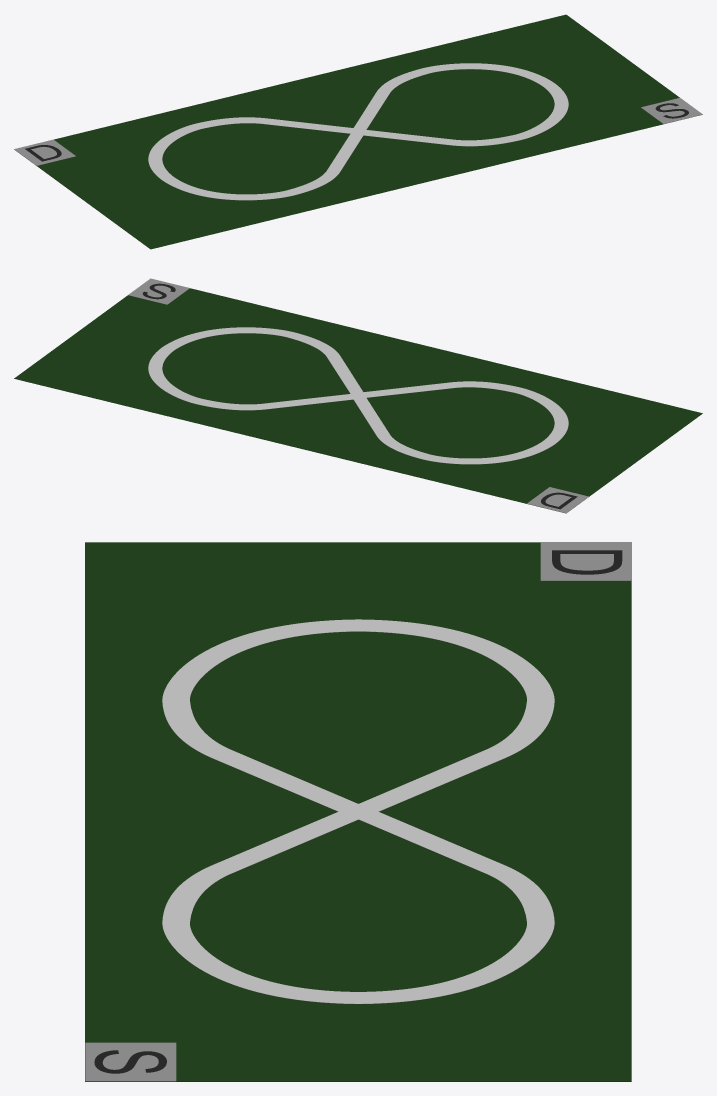
File: arena.DAE
3 renders of one model, top to bottom at view 1: azimuth 30°, elevation 25°; view 2: azimuth 150°, elevation 25°; view 3: azimuth 270°, elevation 25°, orthographic. The views are drawn at different scales.
Parts seen in each view (by area): view 1: Box001; view 2: Box001; view 3: Box001.
Part boxes in pixels (bbox=[...]): Box001: bbox=[14, 14, 702, 249]; Box001: bbox=[14, 278, 702, 513]; Box001: bbox=[85, 542, 631, 1081].
Size of the model in its own units: 140 by 60 by 0.085.
